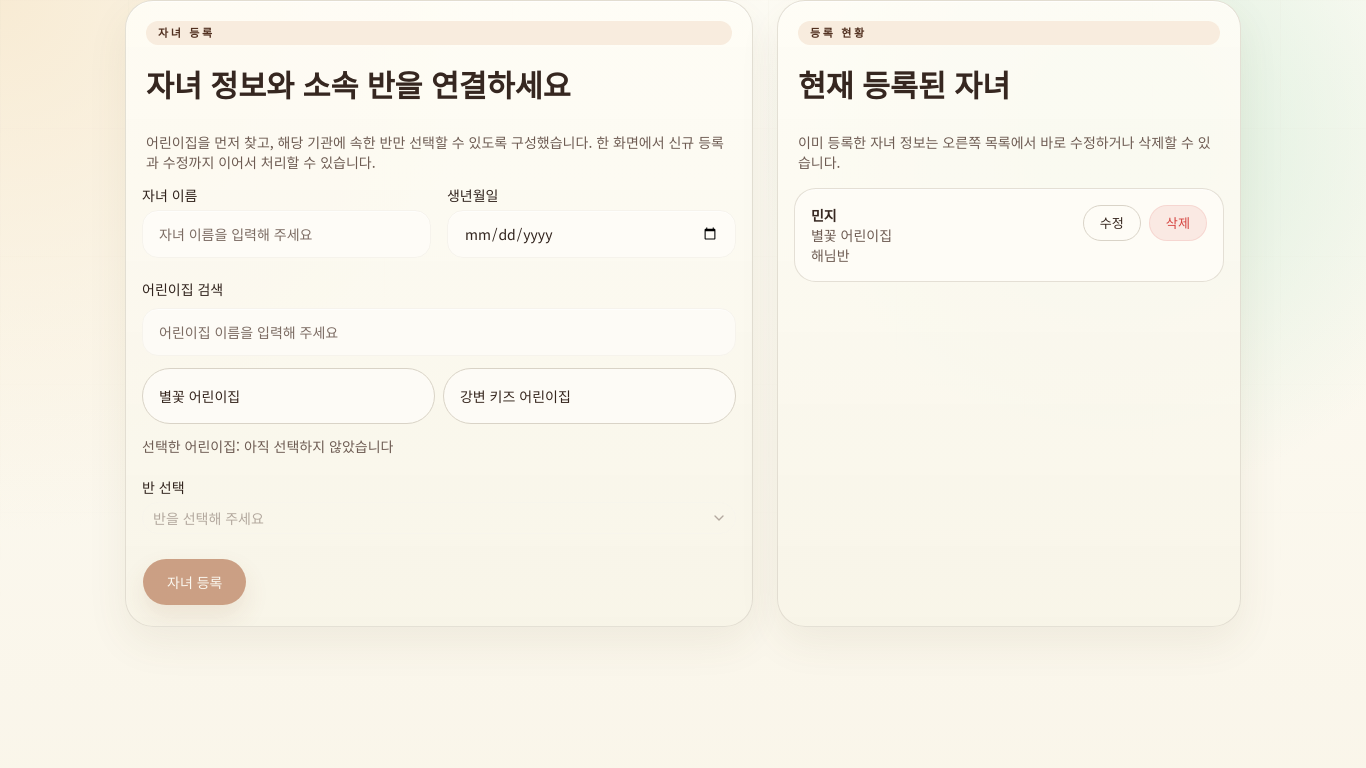
Test case: ChildForm › enables the class selector after center selection and limits options to that center
Expected: the dropdown with test id "class-select" is disabled, [142,502,736,534]
What coordinates should you click on to do the following:
click the button "별꽃 어린이집"
I would click on:
 (200, 396)
Its box is [142,368,435,424].
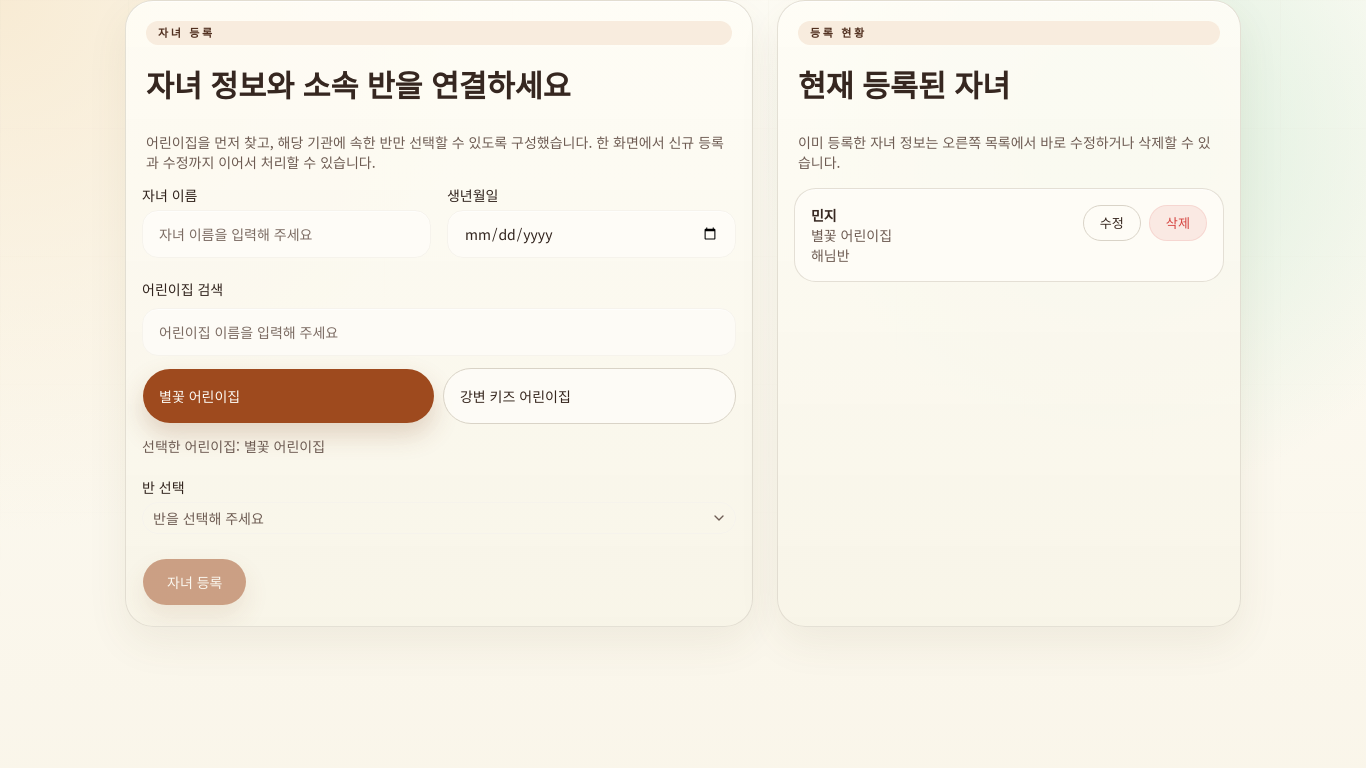
Expected: the dropdown with test id "class-select" is enabled
What coordinates should you click on to do the following:
click the dropdown with test id "class-select"
I would click on:
 (208, 518)
Its box is [142,502,736,534].
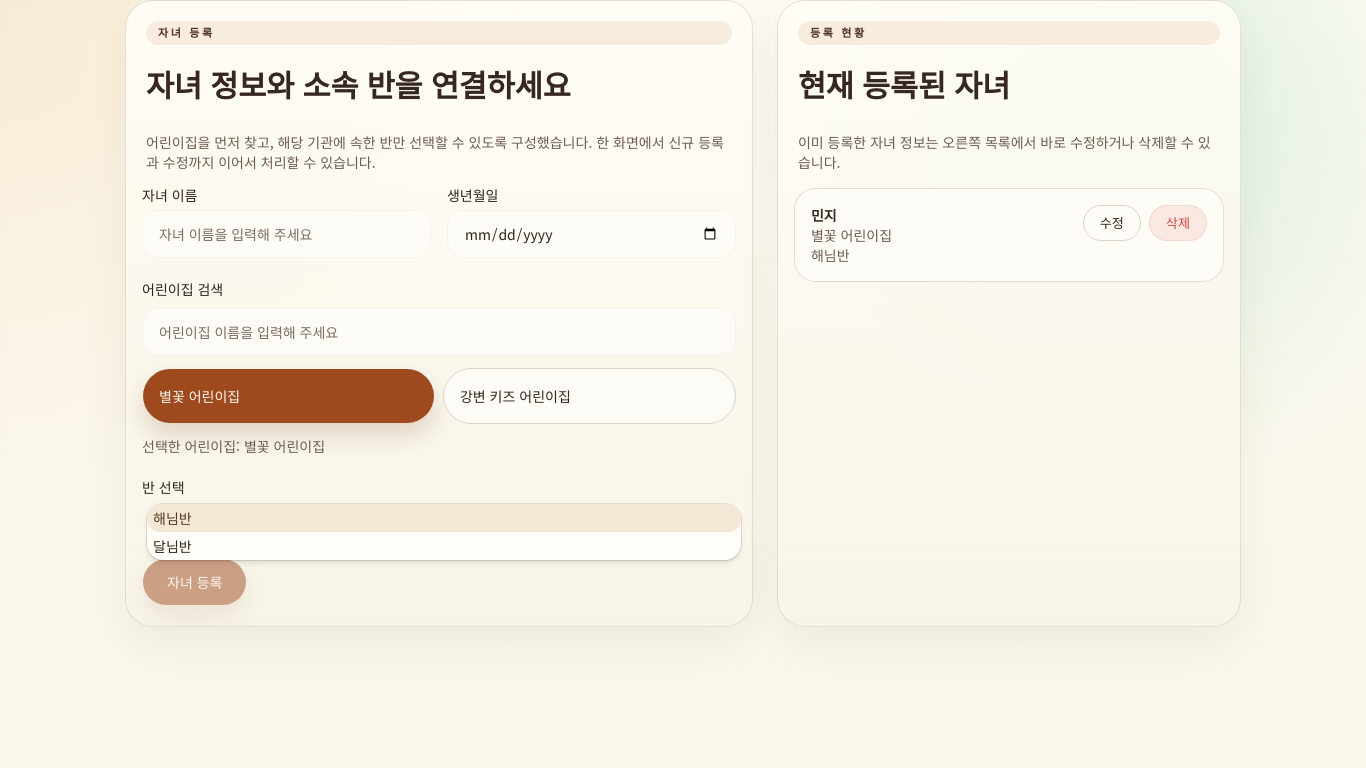
Expected: the text "해님반" below "민지" is shown, [811,245,850,265]
Expected: the text "달님반" is shown, [153,536,192,556]
